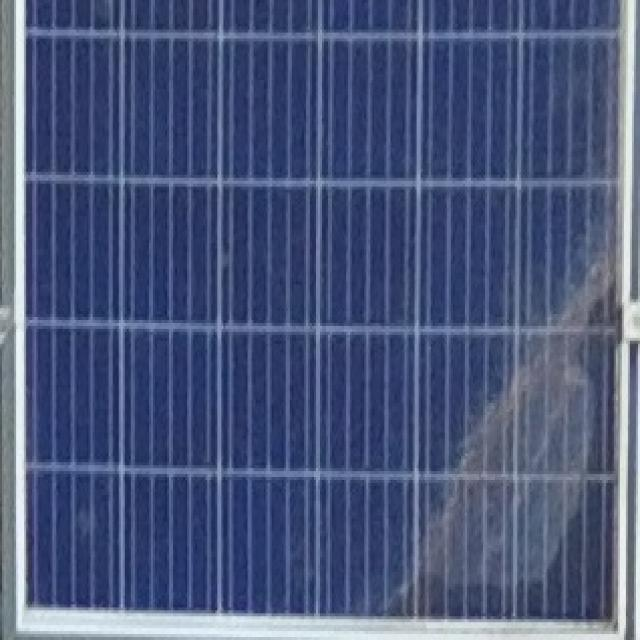Dust: (386, 251, 616, 629)
